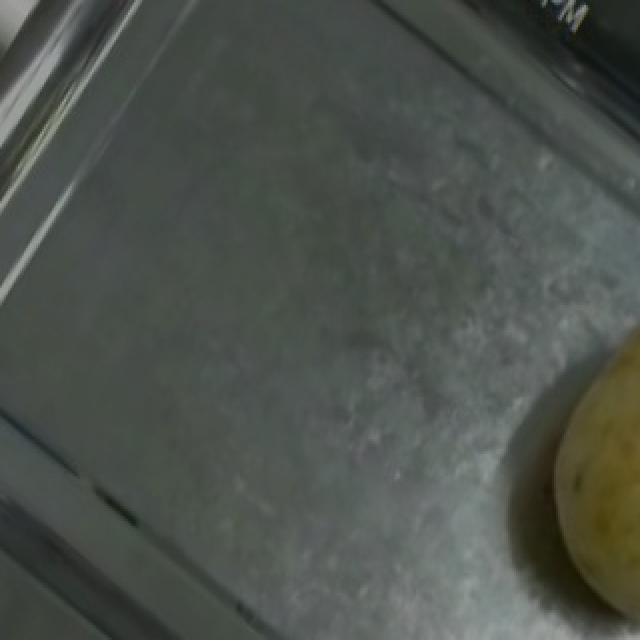Fruit: (508, 302, 640, 638)
